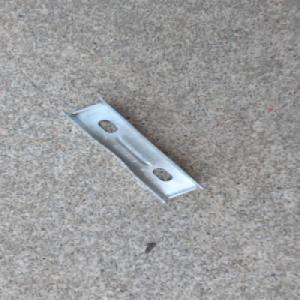ClampPart: (60, 96, 205, 203)
